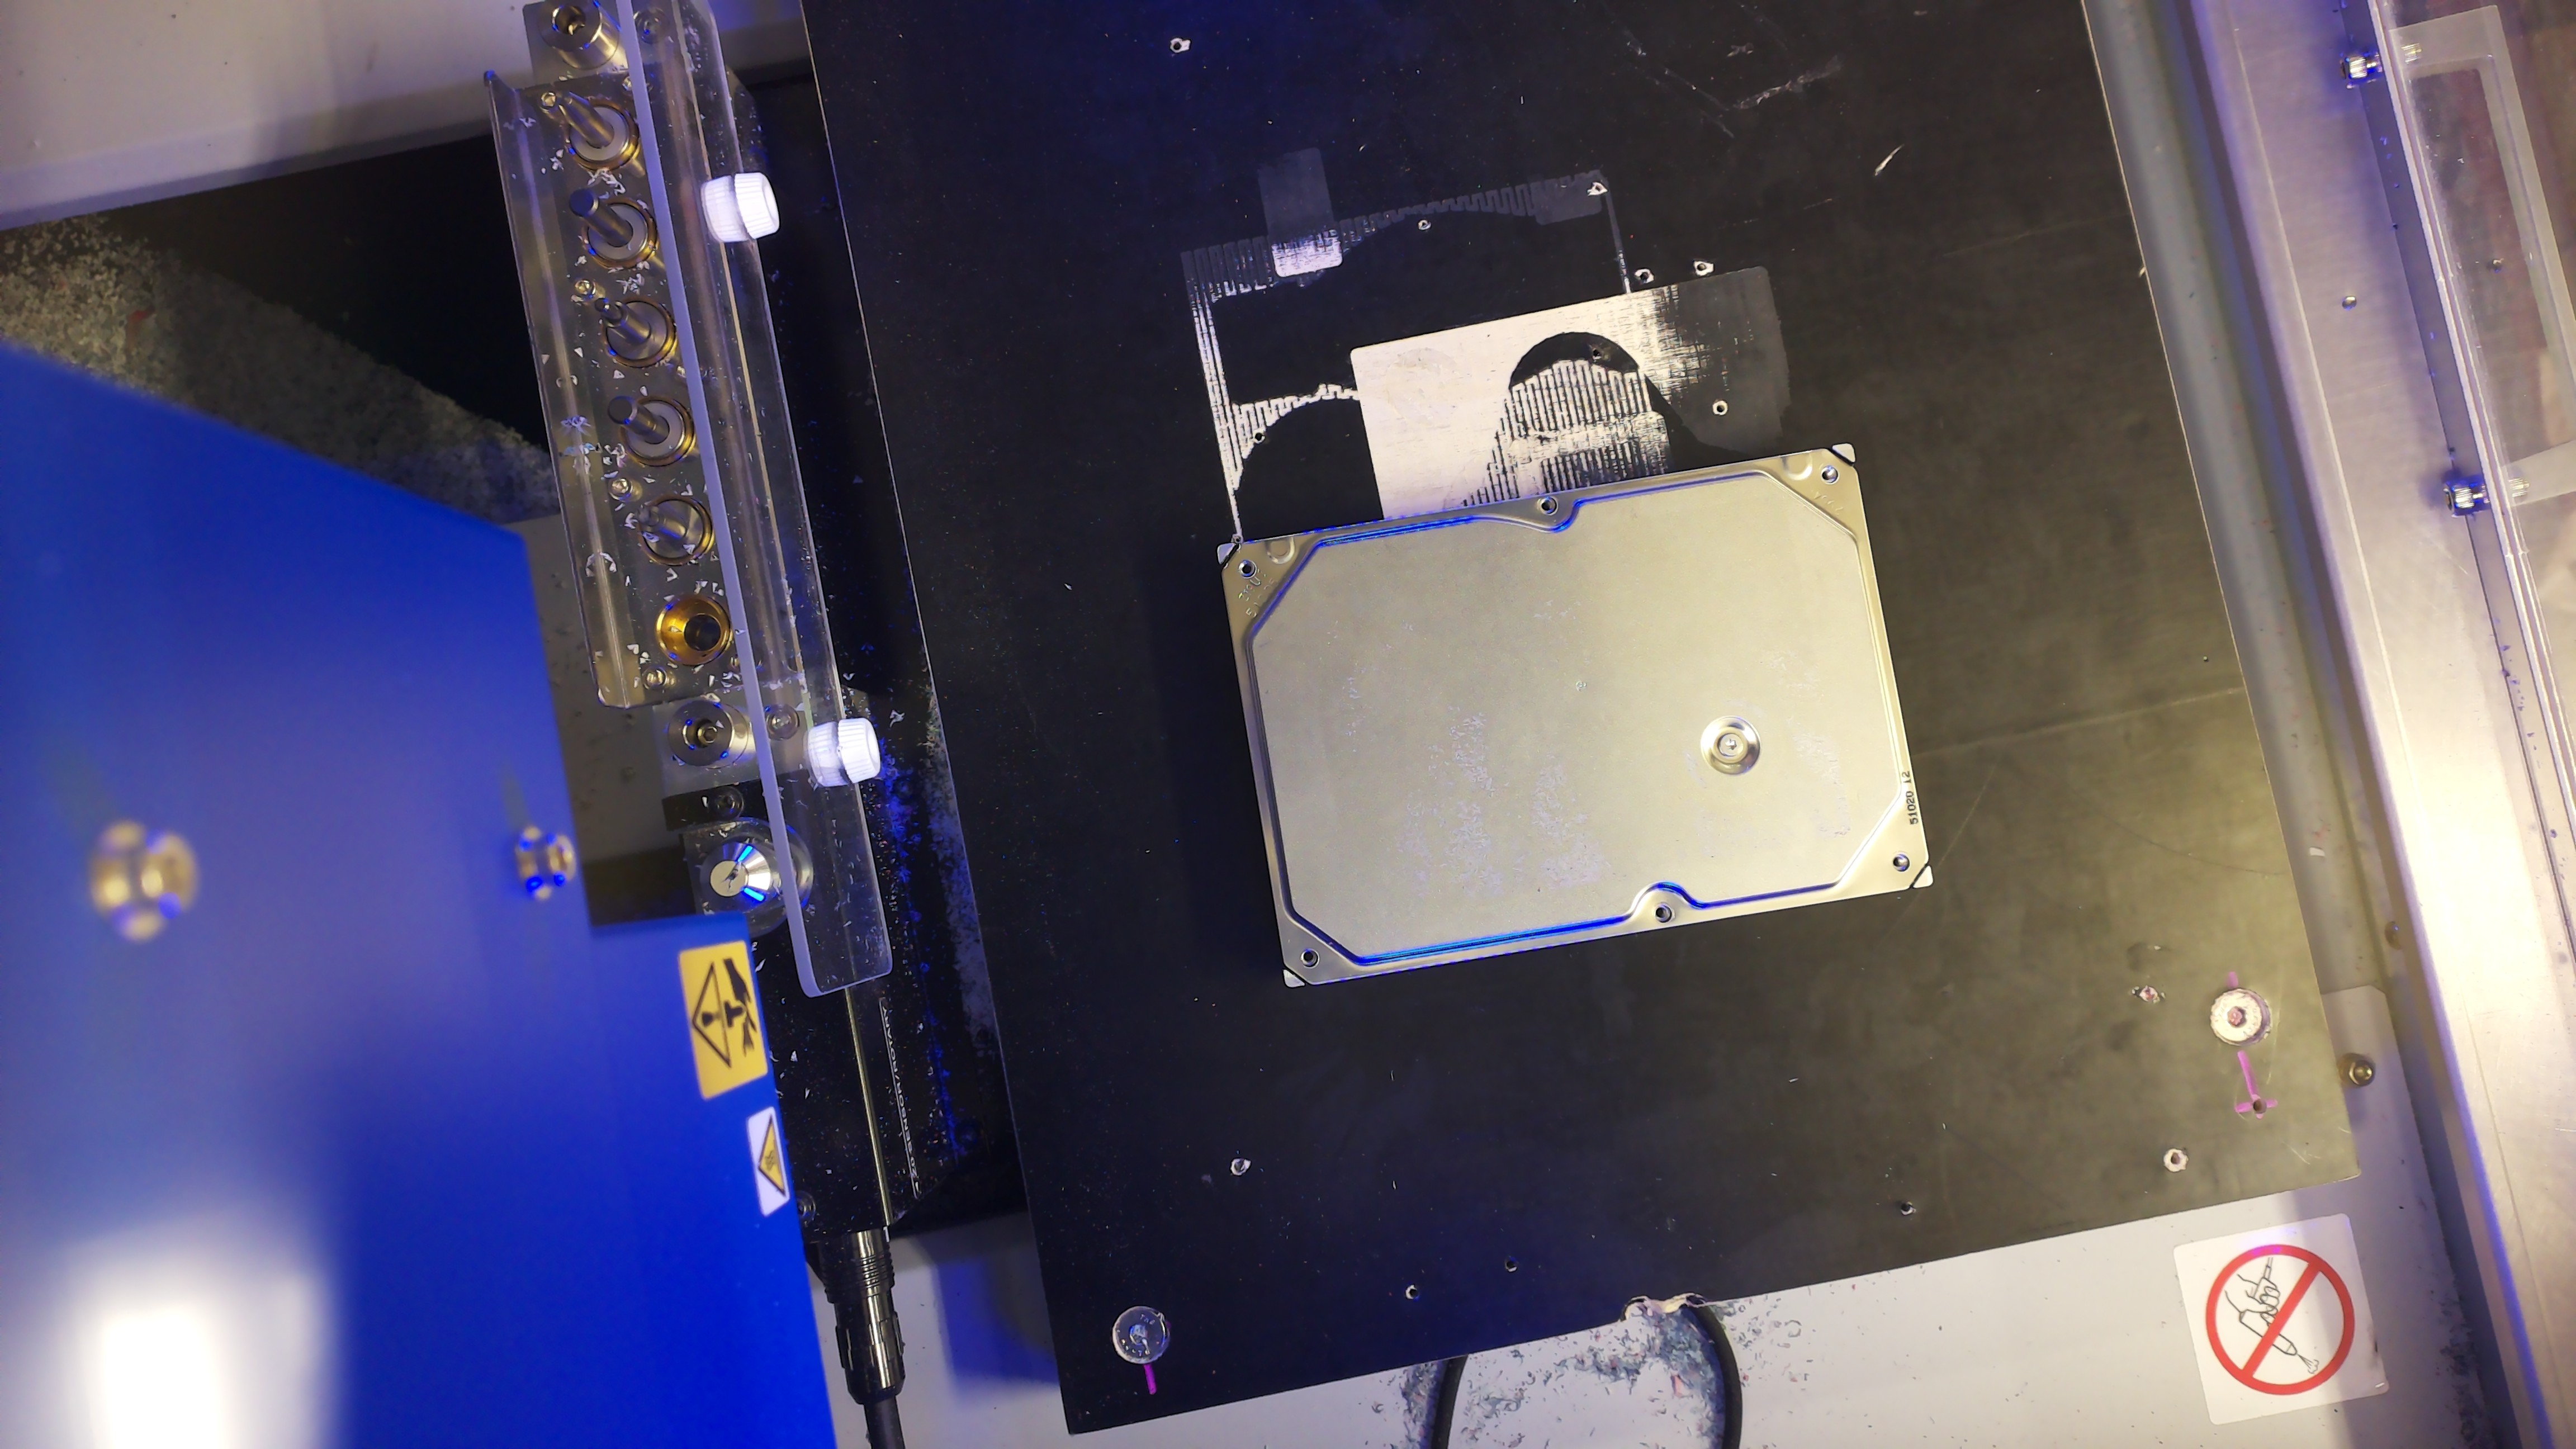Hole: (1652, 902, 1674, 924), (1819, 464, 1840, 485), (1891, 851, 1911, 872), (1300, 948, 1320, 968), (1537, 497, 1559, 515), (1238, 559, 1256, 577)
Screw: (1718, 732, 1744, 757)
